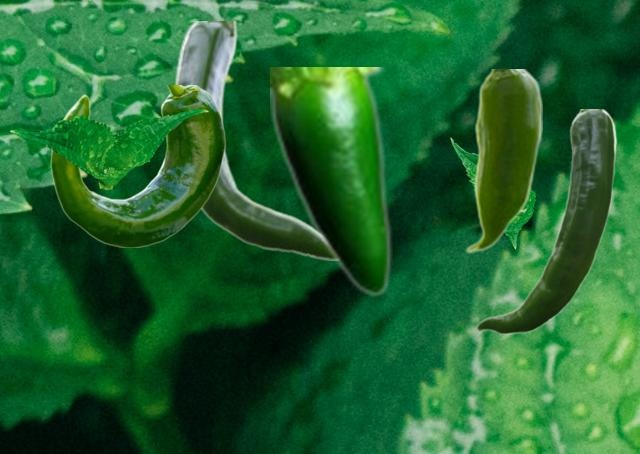green_chili: (174, 21, 330, 259), (475, 109, 616, 334), (50, 85, 225, 246), (270, 67, 391, 296), (464, 69, 541, 253)
